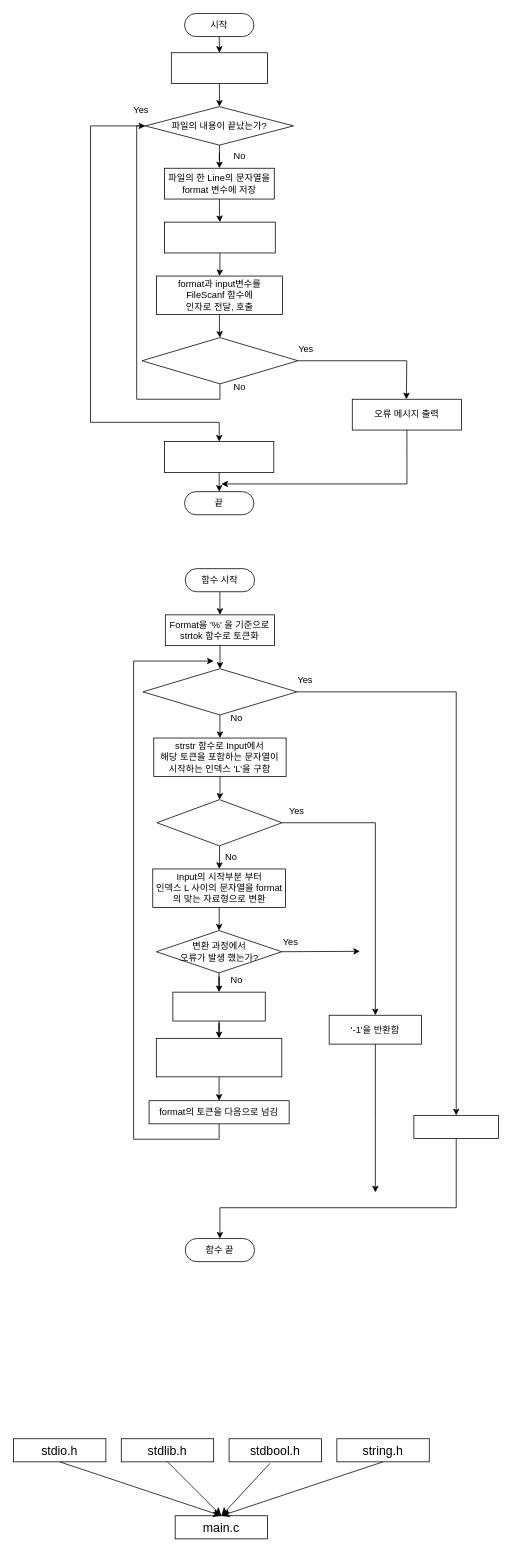
Some shapes in this 512 by 1552 pixel diagram are drawn without their labels. Each missing label, with the centre of its shape:
"'1'을 반환함" belongs at point 456,1126.
"FileScanf 함수의 반환값이 -1인가?" belongs at point 219,360.
"Format의 토큰의 값이 NULL 인가?" belongs at point 219,691.
"Input 문자열을 인덱스 L부터 끝까지로 substr 함" belongs at point 219,1057.
"변환한 데이터를 배열에 저장" belongs at point 218,1006.
"자료형 별 저장된 배열을 차례대로 출력" belongs at point 219,456.
"파일을 읽기모드로 엶" belongs at point 219,68.
"파일의 한 Line의 문자열을 input 변수에 저장" belongs at point 219,237.
"해당하는 인덱스를 찾지 못하였는가?" belongs at point 219,822.
